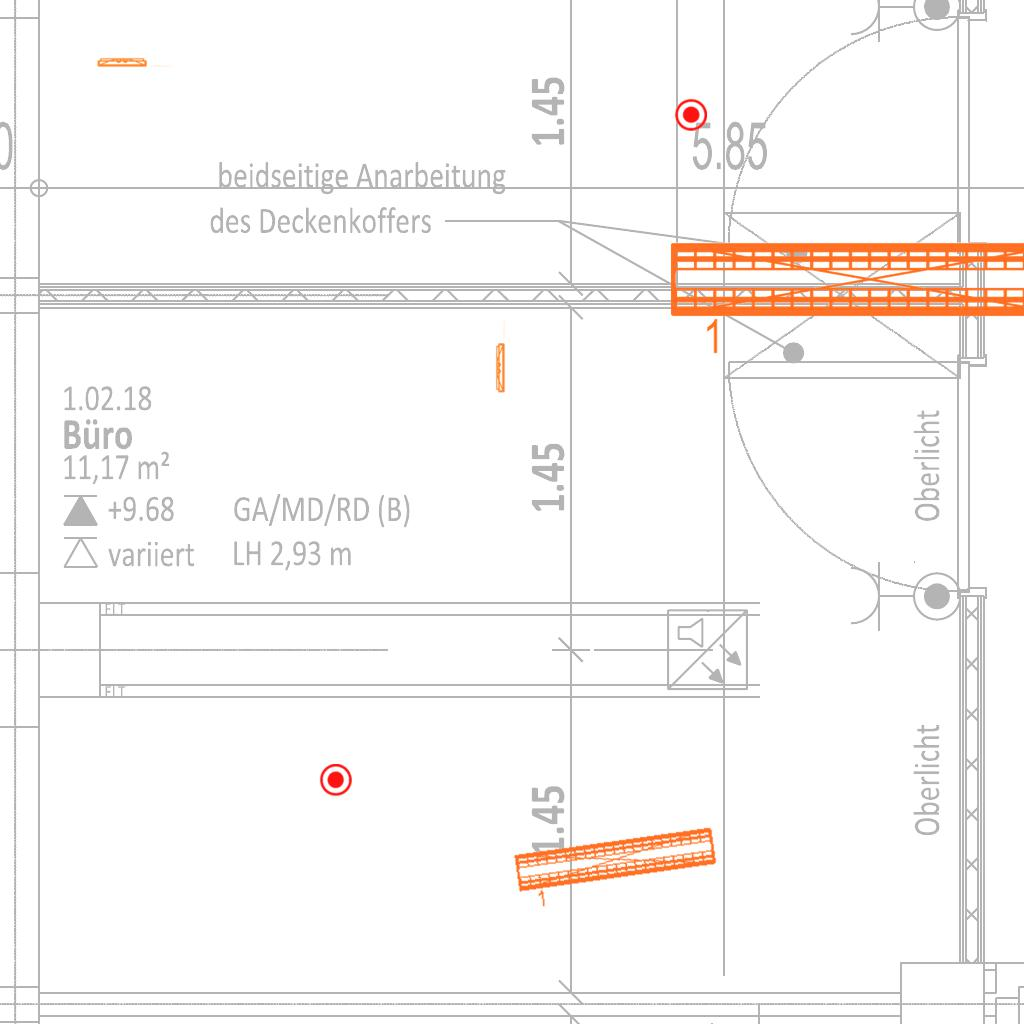Buero_Pendelleuchten_LED: (664, 233, 1024, 363), (510, 821, 724, 916)
Sicherheitsleuchte_Wandeinbau: (95, 56, 174, 68), (494, 316, 506, 395)
Taster: (674, 98, 707, 131), (319, 764, 352, 797)
